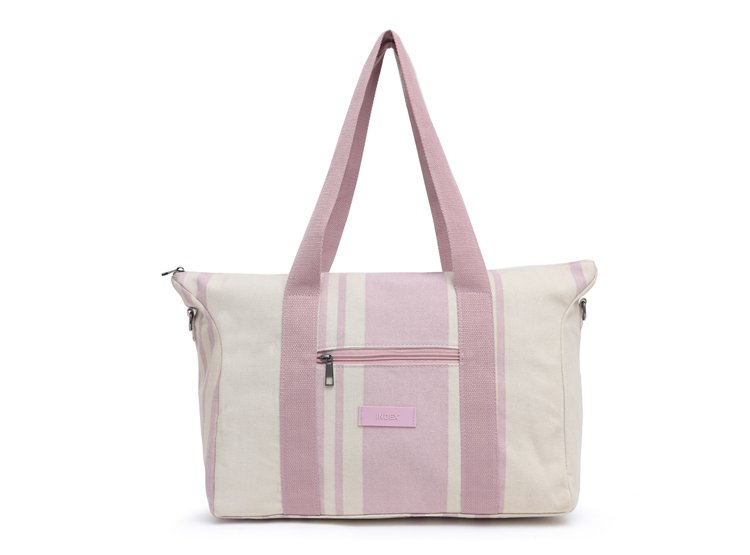cartera: (160, 27, 600, 518)
tela: (235, 385, 359, 481)
